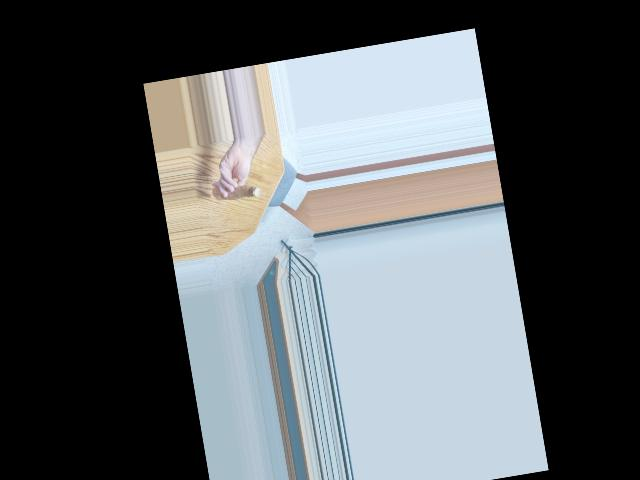sweet_potato: (211, 176, 262, 205)
